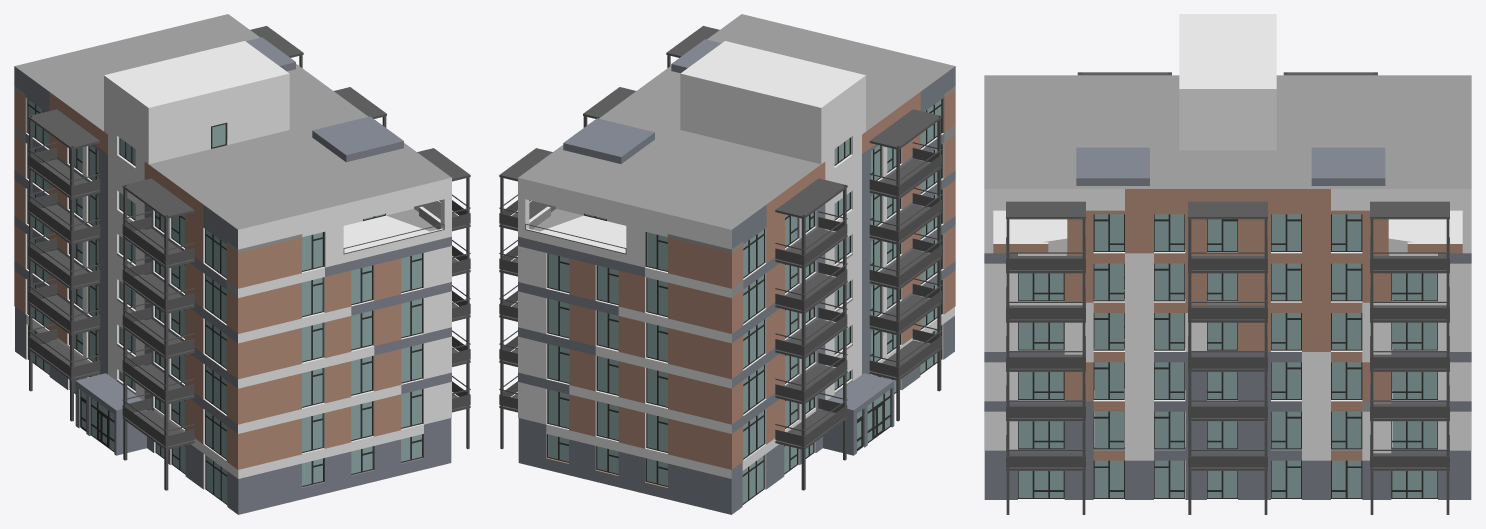
The model's file is house.fbx.
The picture shows the model from 3 angles, left to right: view 1: azimuth 30°, elevation 25°; view 2: azimuth 150°, elevation 25°; view 3: azimuth 270°, elevation 25°; orthographic projection. The views are drawn at different scales.
Visible parts, largest first — view 1: house; view 2: house; view 3: house.
Part boxes in pixels (left/top/right/bottom): house: left=14, top=14, right=470, bottom=514; house: left=499, top=14, right=955, bottom=514; house: left=984, top=14, right=1471, bottom=514.
Bounding box in the file's own units: 20.11 × 24.07 × 28.56.
